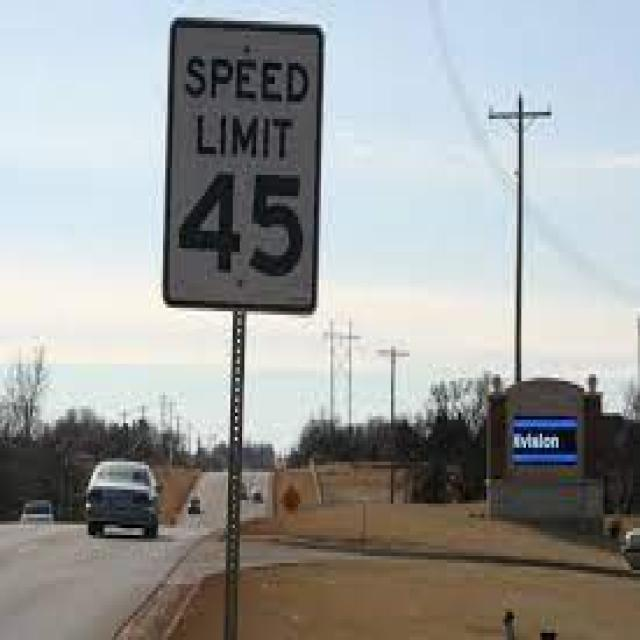Speed Limit Signs: (158, 14, 328, 318)
